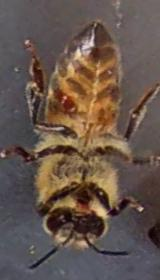varroa_mite: (42, 80, 82, 120)
